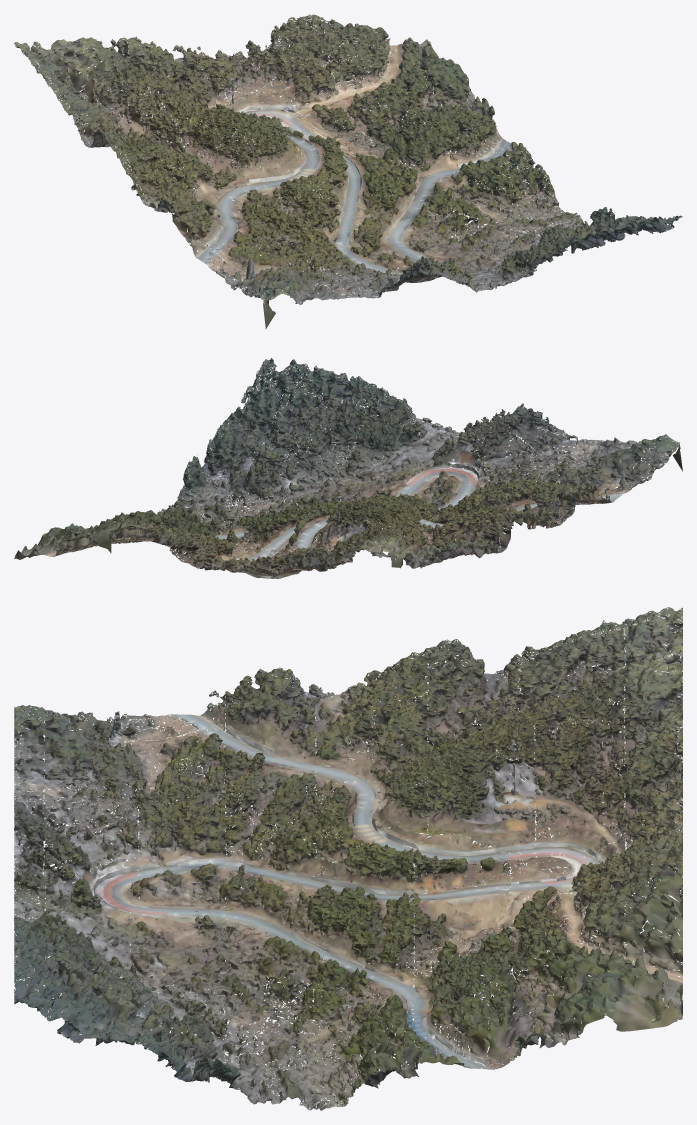
Rendered from road-lite.glb.
3 views of the same model, one above another, from view 1: azimuth 30°, elevation 25°; view 2: azimuth 150°, elevation 25°; view 3: azimuth 270°, elevation 25° (orthographic). The views are drawn at different scales.
Parts seen in each view (by area): view 1: Object_2, Object_17, Object_4, Object_11, Object_10, Object_18, Object_15, Object_6, Object_14, Object_9, Object_19, Object_13 (+7 smaller); view 2: Object_2, Object_8, Object_19, Object_5, Object_12, Object_6, Object_16, Object_13, Object_7, Object_14, Object_11, Object_20 (+7 smaller); view 3: Object_2, Object_19, Object_15, Object_12, Object_7, Object_17, Object_6, Object_5, Object_20, Object_16, Object_4, Object_18 (+7 smaller).
Part boxes in pixels (box(x1,y1,x2,y2)): Object_2: box(14, 14, 682, 329); Object_17: box(304, 43, 562, 275); Object_4: box(157, 57, 465, 250); Object_11: box(190, 16, 662, 290); Object_10: box(16, 43, 535, 245); Object_18: box(116, 43, 453, 215); Object_15: box(22, 38, 674, 308); Object_6: box(202, 130, 510, 268); Object_14: box(43, 62, 679, 303); Object_9: box(247, 158, 528, 248); Object_19: box(139, 38, 664, 292); Object_13: box(74, 57, 453, 288); Object_2: box(14, 358, 682, 572); Object_8: box(164, 385, 372, 540); Object_19: box(15, 386, 621, 557); Object_5: box(182, 412, 466, 557); Object_12: box(55, 427, 677, 573); Object_6: box(228, 455, 457, 554); Object_16: box(114, 366, 531, 518); Object_13: box(365, 417, 565, 567); Object_7: box(212, 384, 456, 578); Object_14: box(122, 361, 656, 576); Object_11: box(62, 367, 569, 576); Object_20: box(267, 443, 648, 578); Object_2: box(14, 607, 682, 1110); Object_19: box(44, 672, 682, 1103); Object_15: box(16, 614, 682, 1109); Object_12: box(15, 693, 682, 1065); Object_7: box(44, 697, 625, 1062); Object_17: box(34, 841, 627, 991); Object_6: box(129, 752, 510, 995); Object_5: box(45, 834, 625, 1000); Object_20: box(43, 693, 625, 855); Object_16: box(14, 793, 490, 1095); Object_4: box(224, 709, 625, 990); Object_18: box(312, 654, 625, 1015).
Bounding box in the file's own units: 337 × 136 × 353.
1 material, 1 textured.
